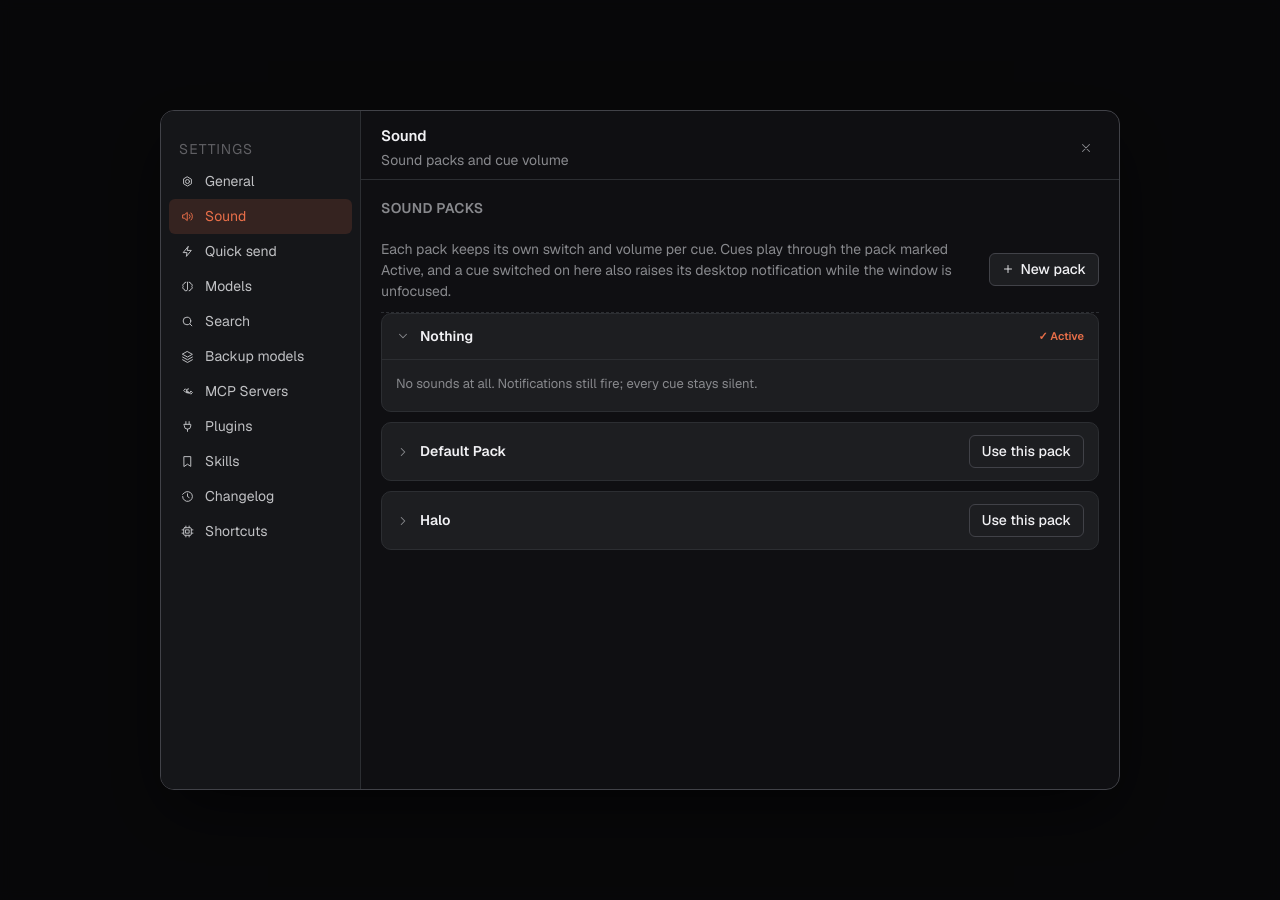
Scenario: Sound settings page › opens the pack wizard from the New pack button
Click the button "New pack".
click(1044, 269)  # box x1=989 y1=252 x2=1099 y2=286
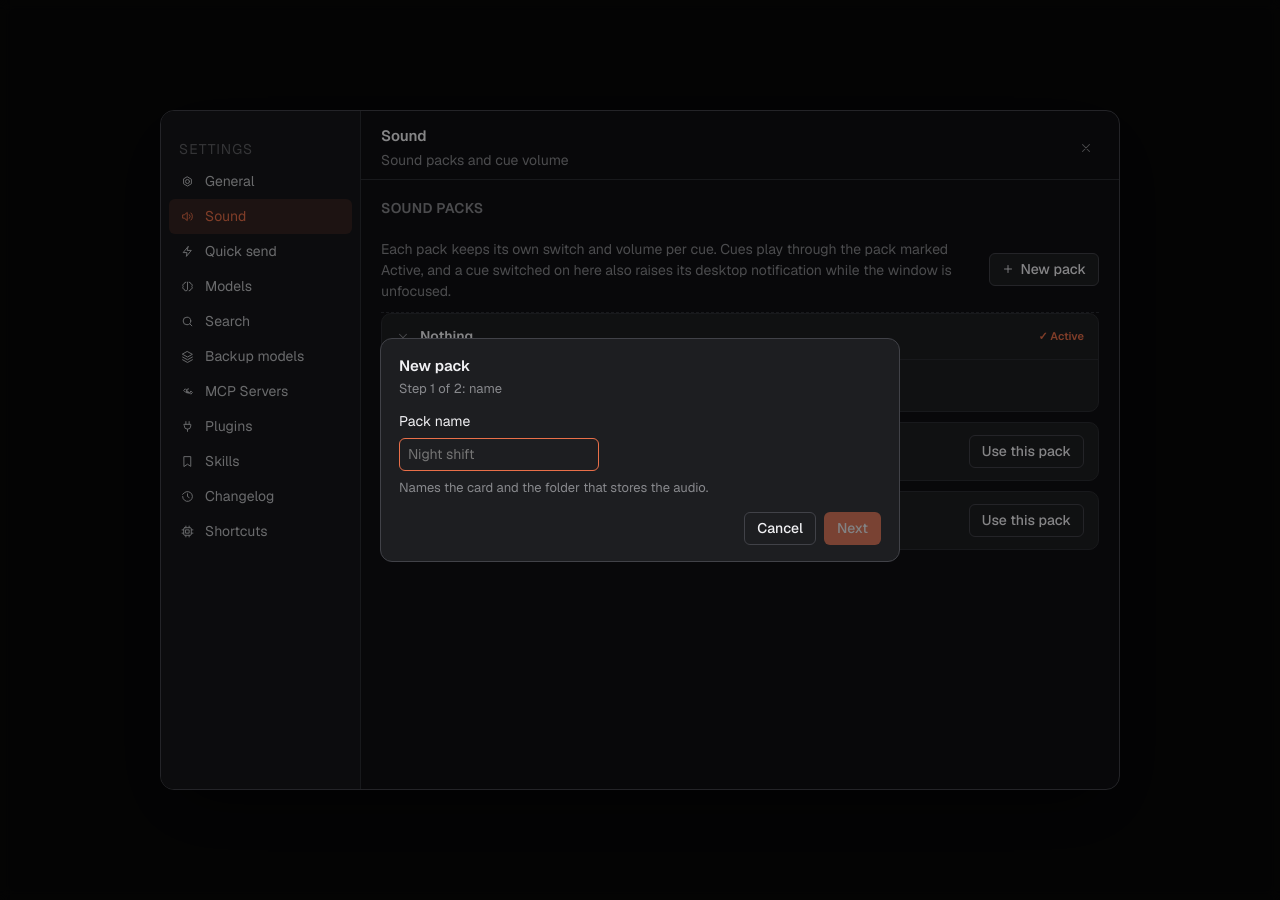
Now the dialog "New pack" is shown, box x1=380 y1=338 x2=900 y2=562
Now the text "Step 1 of 2: name" is shown, box x1=399 y1=380 x2=502 y2=397
